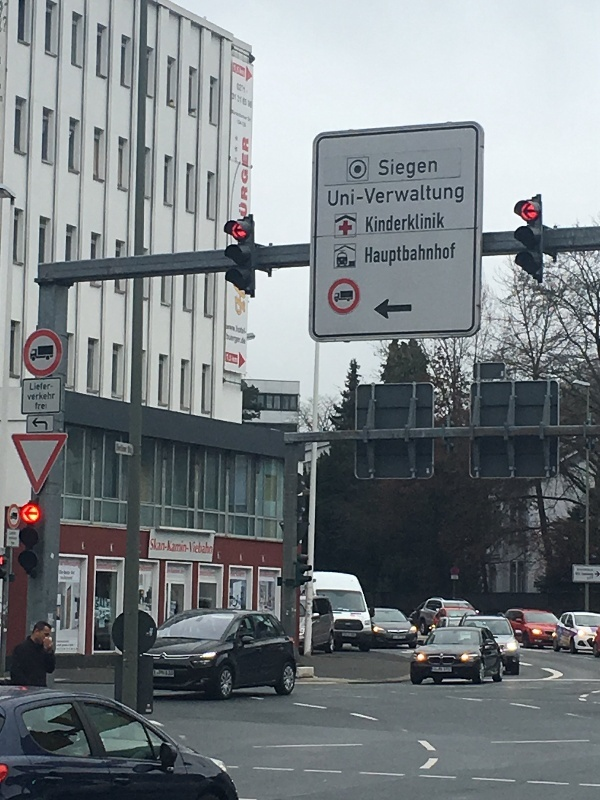text: (243, 136, 256, 217), (385, 156, 400, 184), (401, 156, 416, 184), (417, 156, 432, 184), (369, 241, 384, 269), (385, 241, 400, 269), (401, 241, 416, 269), (417, 241, 432, 269), (433, 241, 448, 269), (337, 182, 352, 208), (353, 182, 368, 208), (369, 182, 384, 208), (385, 182, 400, 208), (401, 182, 416, 208), (417, 182, 432, 208), (433, 182, 448, 208), (449, 182, 464, 208), (97, 595, 111, 620), (369, 211, 384, 233), (385, 211, 400, 233), (401, 211, 416, 233), (417, 211, 432, 233), (161, 538, 176, 555), (177, 538, 192, 555), (193, 538, 208, 555), (433, 211, 444, 233), (328, 182, 336, 208), (449, 241, 456, 269), (234, 286, 240, 318), (241, 286, 246, 318), (226, 334, 240, 345), (151, 538, 160, 555), (33, 392, 48, 401), (65, 568, 75, 581), (33, 383, 48, 391), (227, 354, 240, 363), (380, 156, 384, 184), (433, 156, 437, 184), (243, 98, 256, 106), (35, 402, 48, 410), (231, 109, 240, 120), (226, 324, 240, 331), (242, 338, 256, 345), (365, 241, 368, 269), (241, 109, 248, 120), (234, 64, 240, 76), (209, 538, 213, 555), (59, 568, 64, 581), (232, 93, 240, 101), (248, 100, 256, 108), (49, 392, 56, 401), (241, 325, 247, 335), (241, 119, 247, 128), (241, 64, 245, 76), (241, 82, 245, 94), (27, 392, 32, 401), (366, 211, 368, 233), (248, 117, 256, 122), (236, 325, 240, 335), (49, 383, 54, 391), (237, 82, 240, 94), (238, 119, 240, 128), (238, 95, 240, 103), (30, 383, 32, 391), (241, 95, 242, 103)
